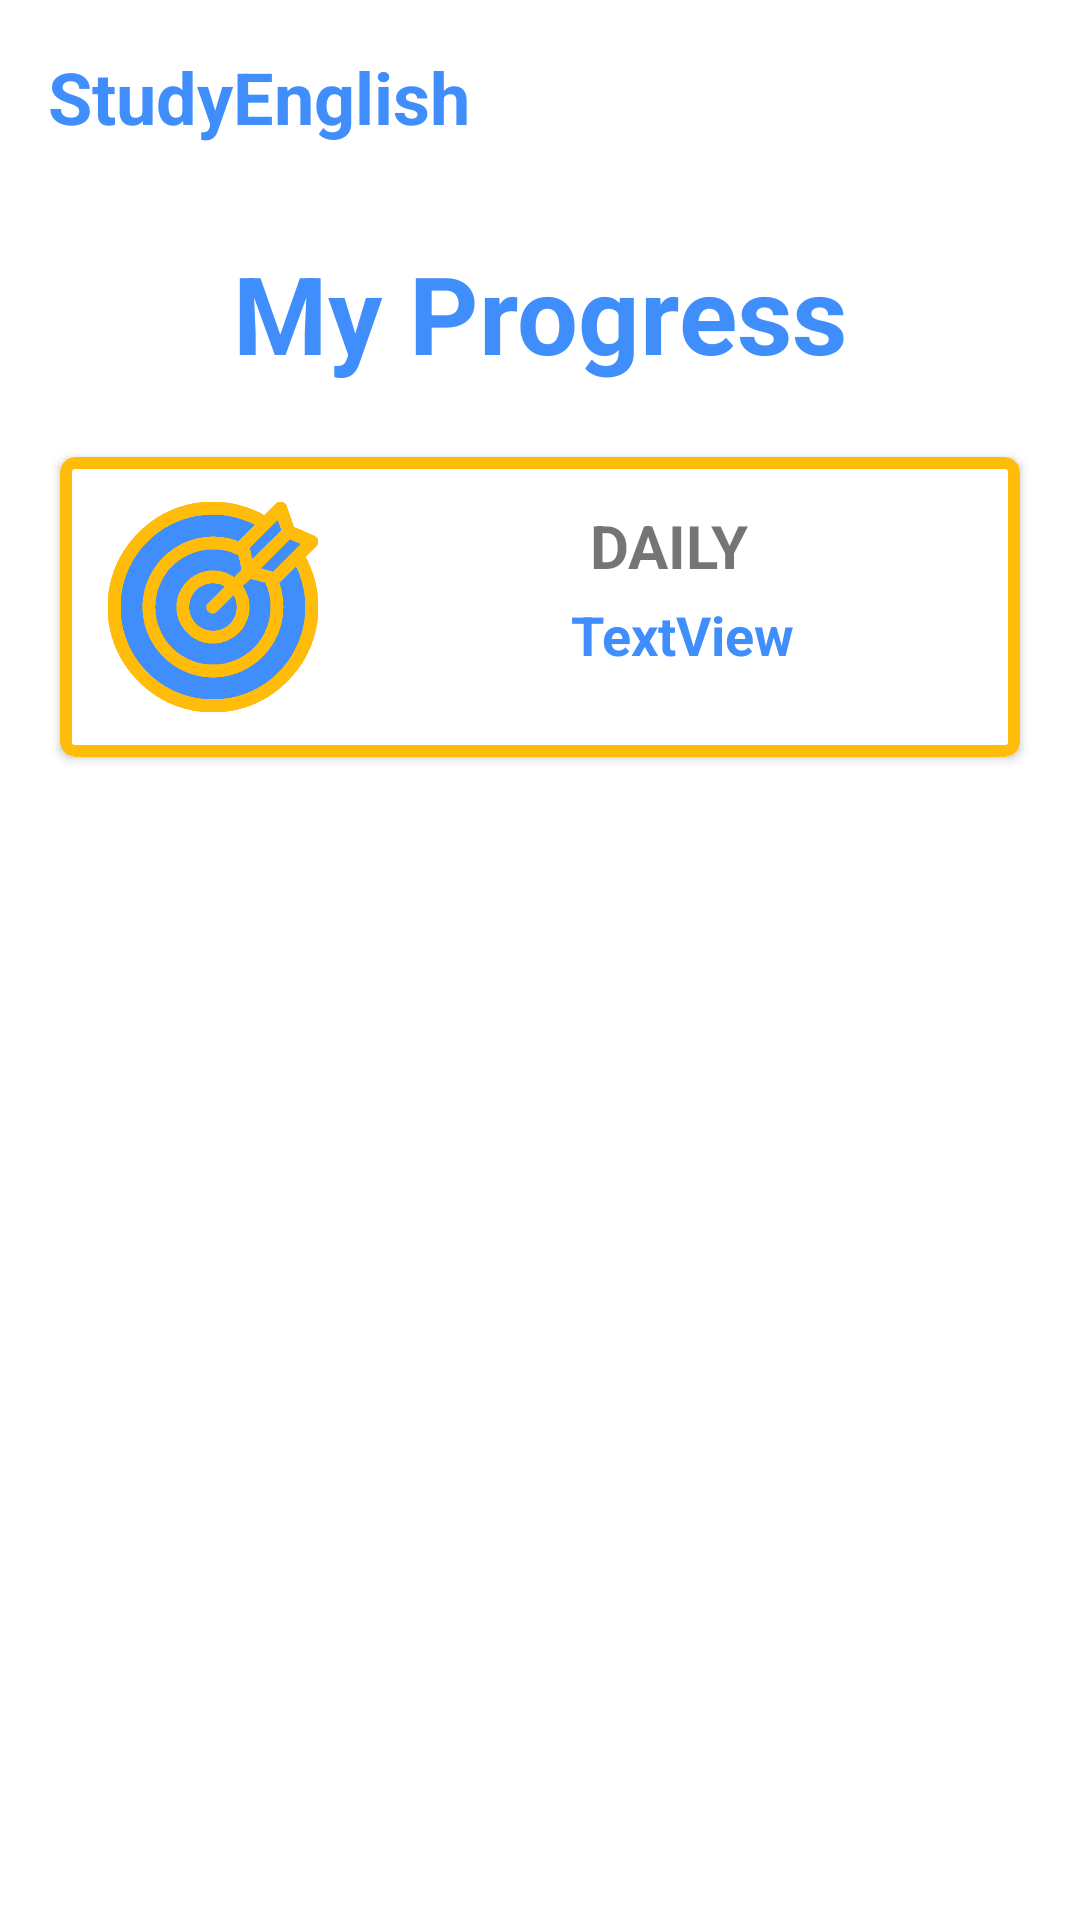

Locate icon controls on the screen. Image size 1080 × 1920, boxes as [x1,y1,x2,y2].
goals: [108,502,318,712]
